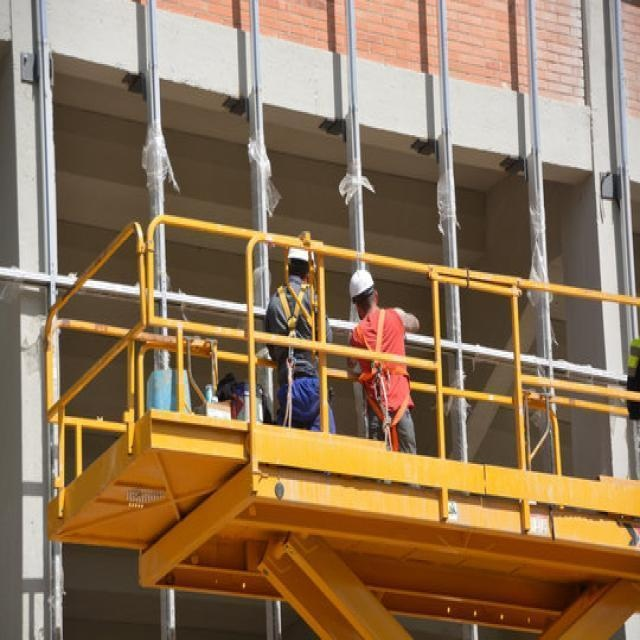Arnes_seguridad: (350, 311, 412, 428), (274, 280, 312, 341)
